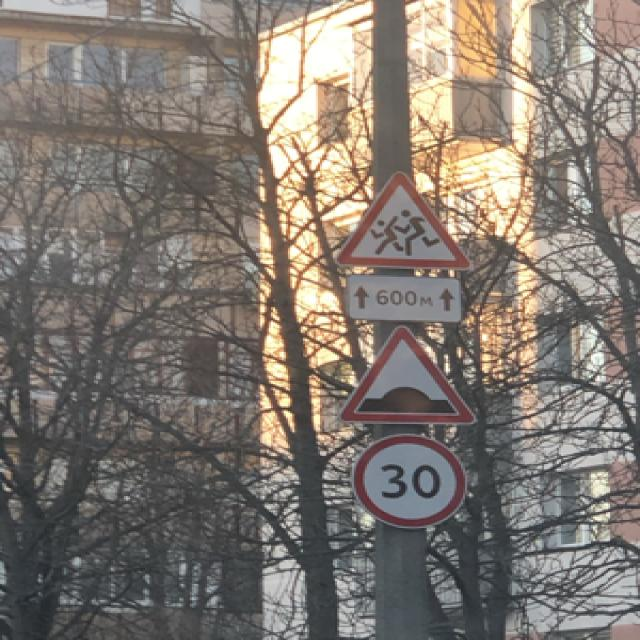speedlimit: (350, 434, 467, 526)
